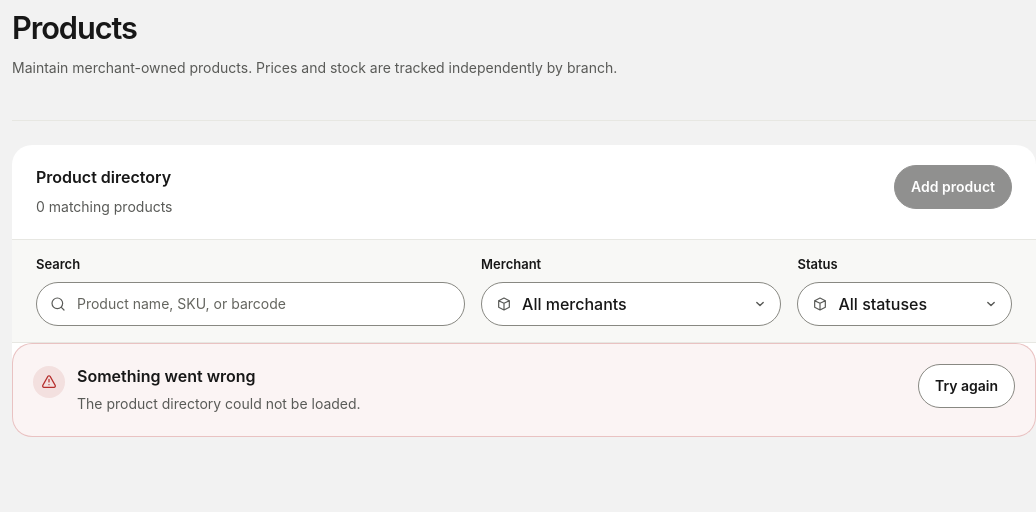
Test case: ProductDirectory workflows › offers retry after read failure and distinguishes empty results
Expected: the text "The product directory could not be loaded." is shown, [77,392,361,416]
What coordinates should you click on to do the following:
click the button "Try again"
I would click on:
 (966, 386)
Its box is [918,364,1015,408].
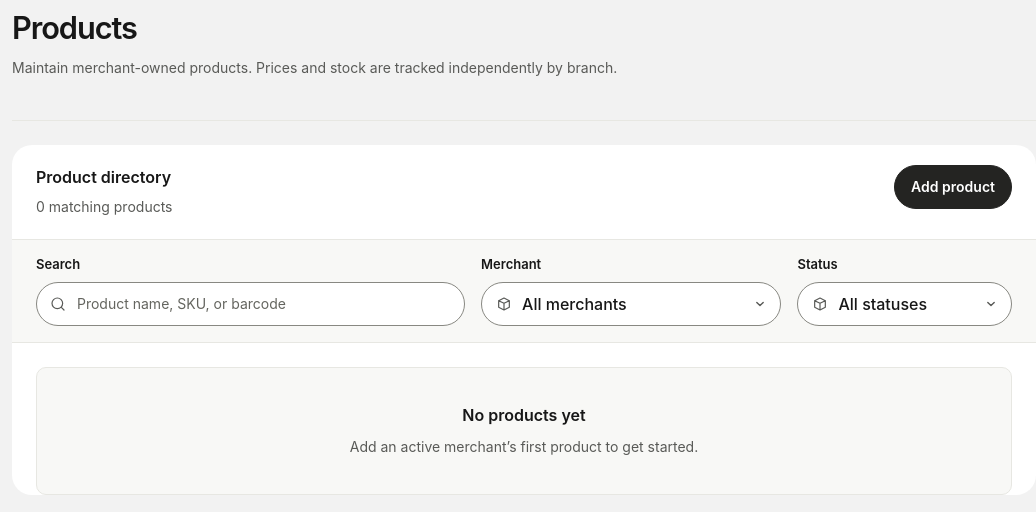
Expected: the heading "No products yet" is shown, [462,403,586,427]
